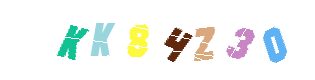3: (180, 0, 260, 80)
4: (115, 0, 195, 80)
8: (98, 0, 178, 80)
K: (31, 0, 111, 80), (72, 0, 152, 80)
O: (231, 0, 311, 80)
Z: (136, 0, 216, 80)
